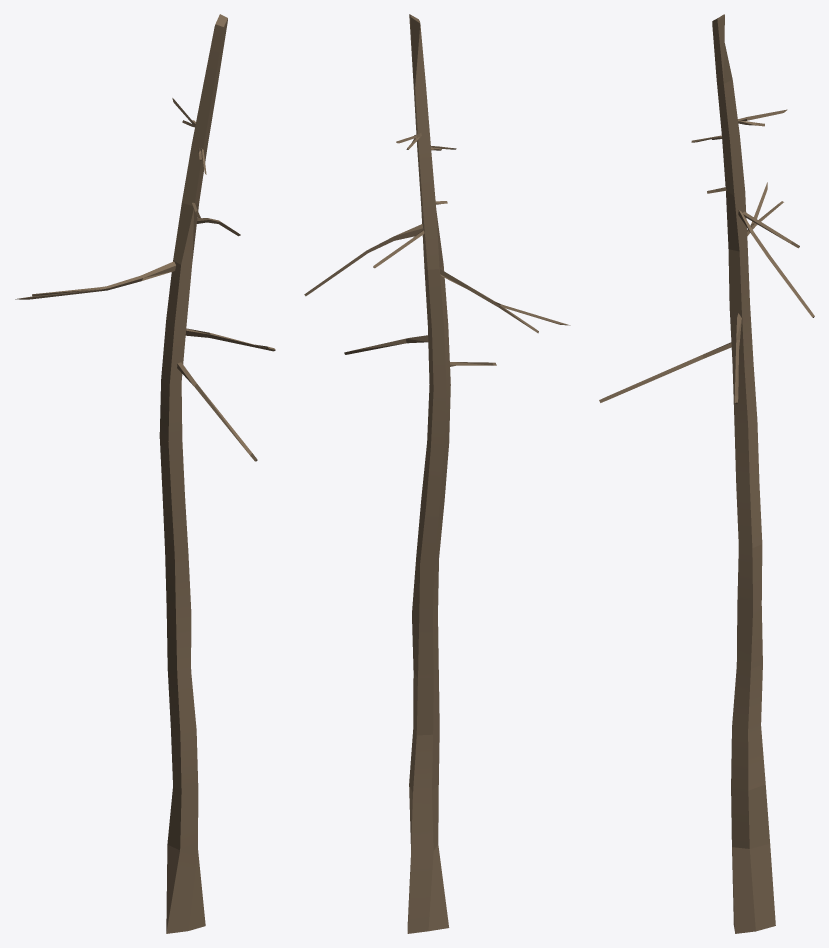
The model's file is pine_bare_16.FBX.
3 renders of one model, left to right at view 1: azimuth 30°, elevation 25°; view 2: azimuth 150°, elevation 25°; view 3: azimuth 270°, elevation 25°, orthographic. The views are drawn at different scales.
Parts seen in each view (by area): view 1: pine_bare_16; view 2: pine_bare_16; view 3: pine_bare_16.
Boxes of the visible parts, <box> form: pine_bare_16: <box>15,14,275,933</box>; pine_bare_16: <box>304,14,570,933</box>; pine_bare_16: <box>599,14,814,933</box>.
Bounding box in the file's own units: 2.09 × 7.33 × 1.55.
